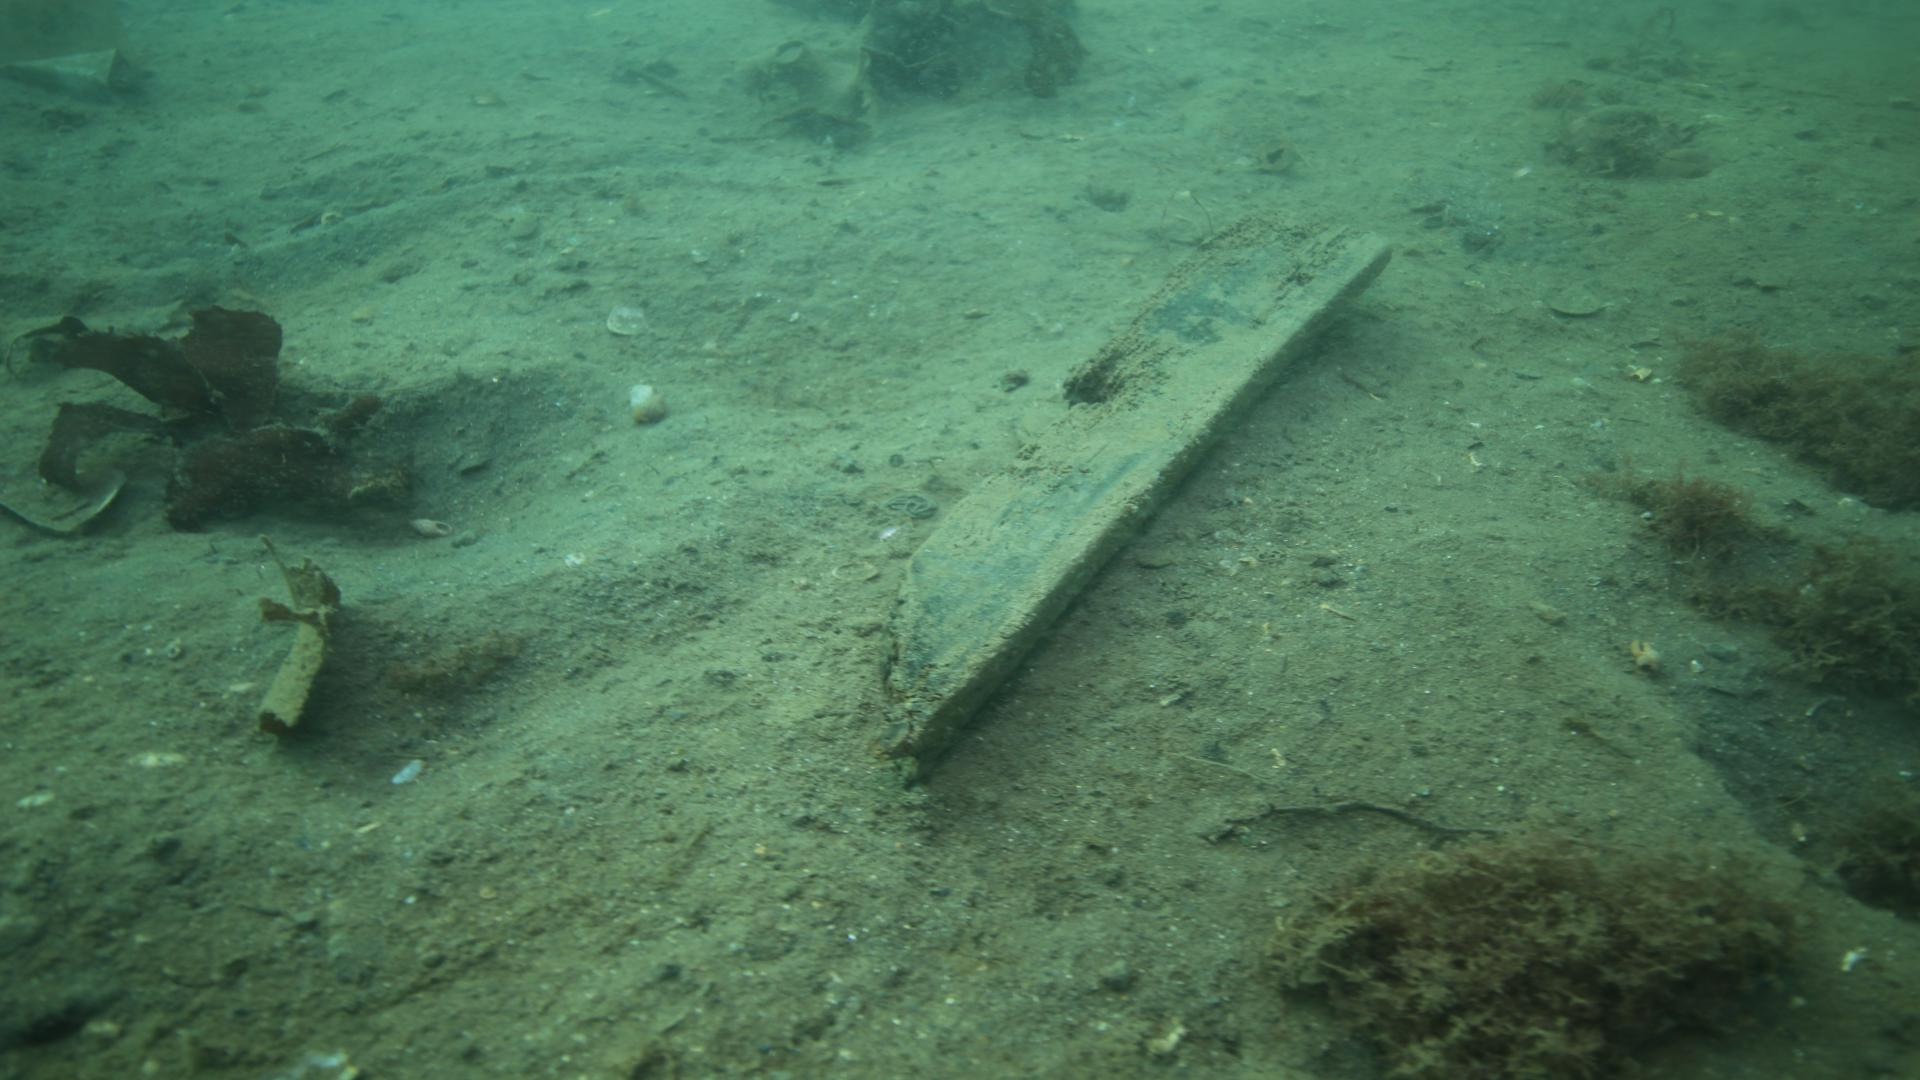wood: (880, 204, 1391, 789)
